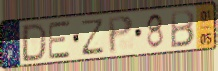8: (145, 12, 165, 50)
B: (169, 9, 196, 50)
D: (20, 22, 49, 64)
E: (47, 19, 73, 61)
P: (106, 14, 135, 56)
Z: (80, 17, 106, 58)
